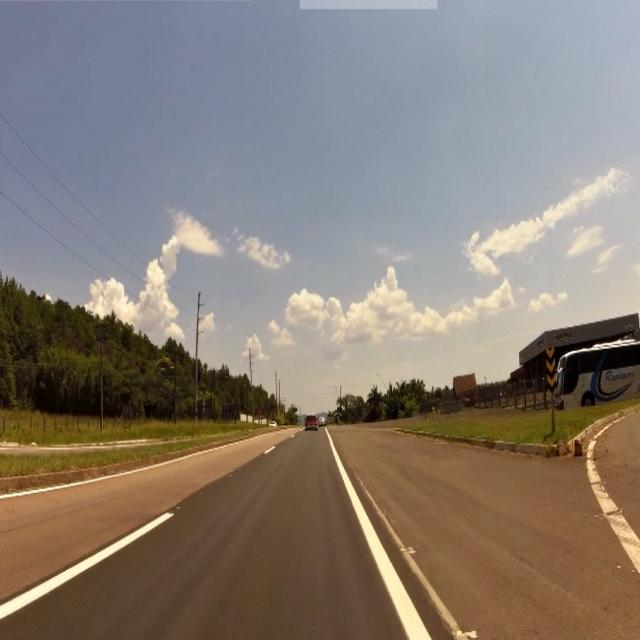ESP-20: (546, 345, 556, 397)
